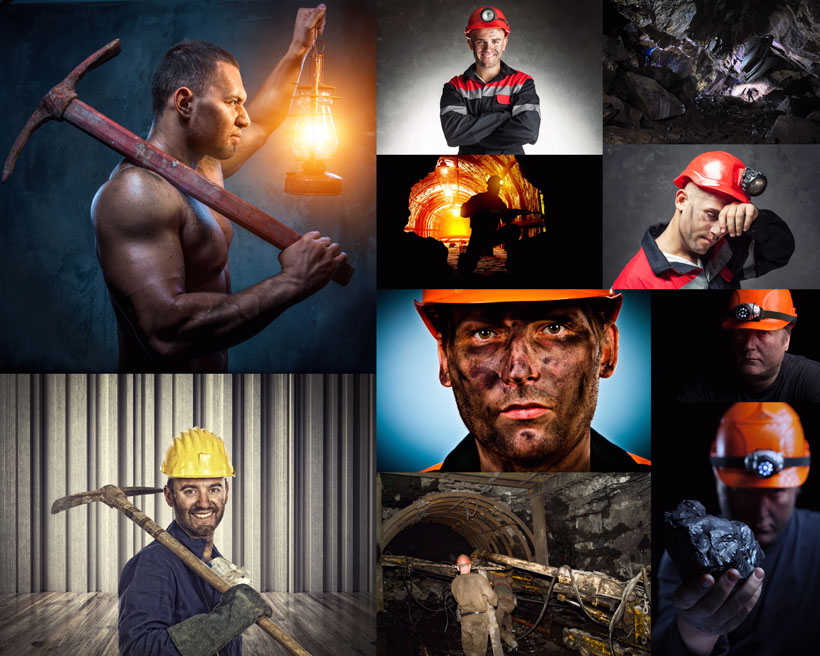helmet: (150, 416, 244, 537), (457, 5, 523, 69)
